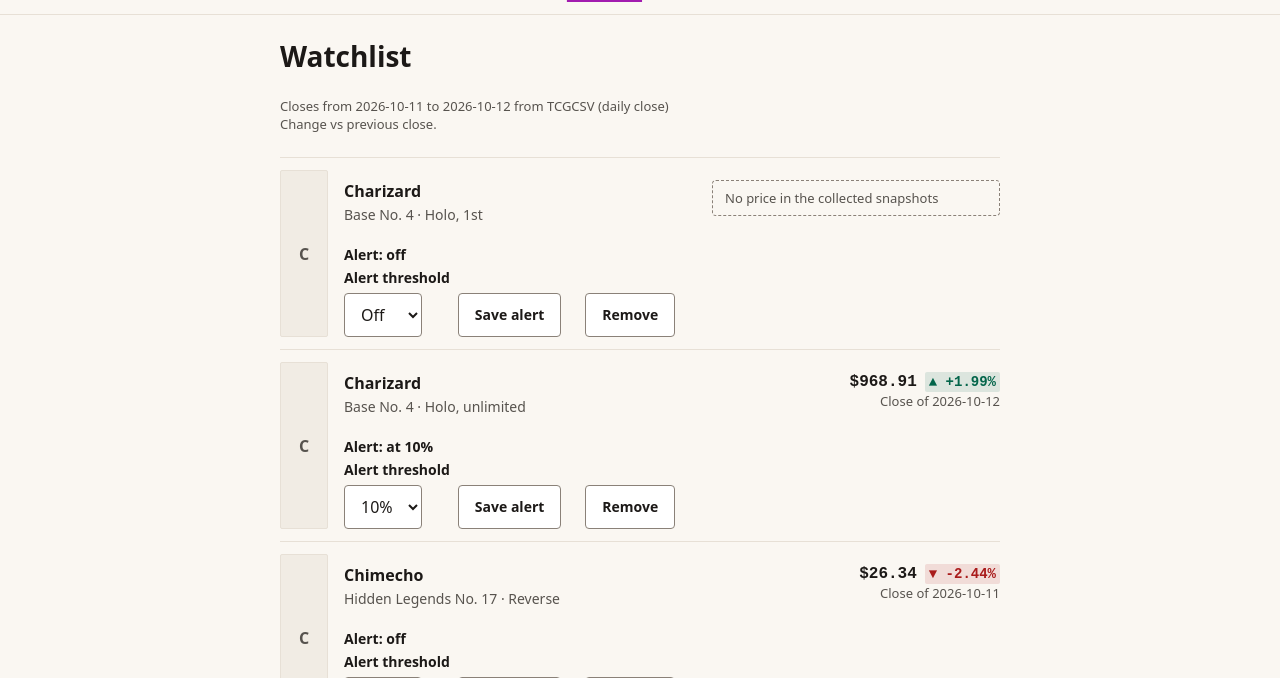
presses and neighbours › a second row removed while the owner line shows on the first keeps the line once, on the first
The width and height of the screenshot is (1280, 678).
Click the button with aria-label "Remove Charizard, holo, unlimited". click: [630, 507]
box: [585,485,675,529]
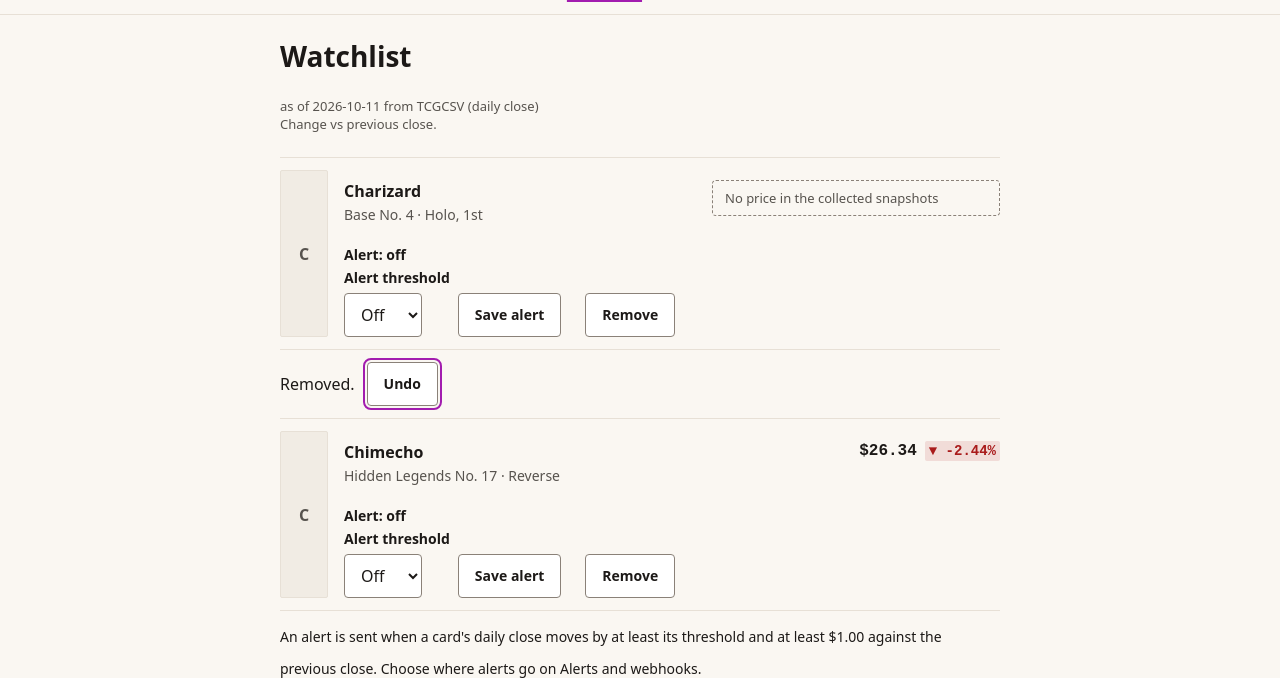
Click the button with aria-label "Undo removing Charizard". click: [402, 384]
box: [367,362,438,406]
(page scrolled)
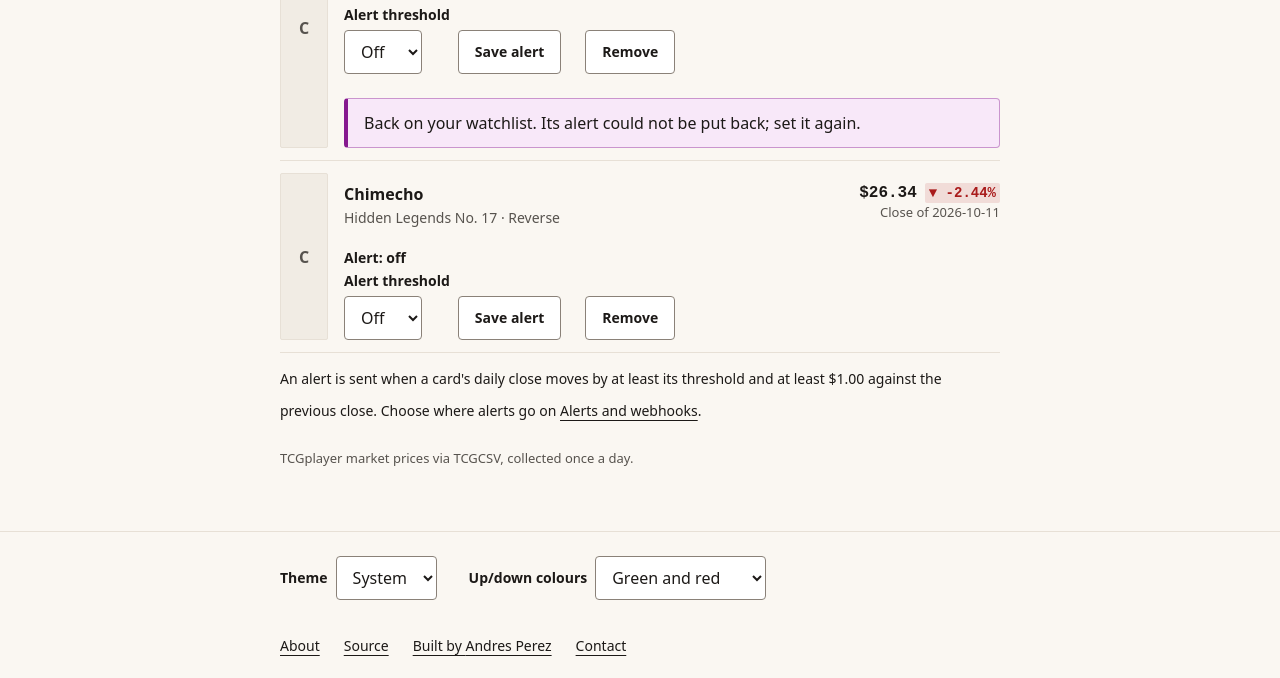
Expected: the text "Back on your watchlist. Its alert could not be put back; set it again." is shown, [344,98,1000,148]
Click the button "Remove" below "Hidden Legends No. 17 · Reverse". click: [630, 318]
box: [585,296,675,340]
(page scrolled)
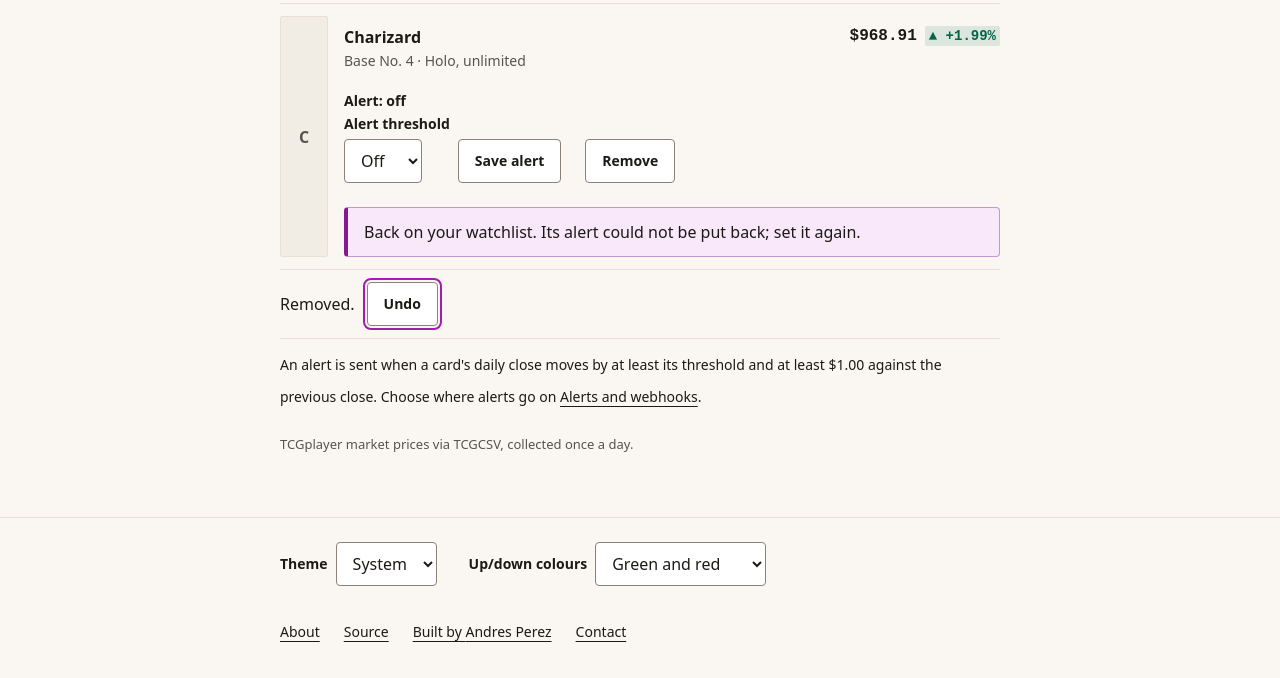
Expected: the text "Back on your watchlist. Its alert could not be put back; set it again." is shown once, [344,207,1000,257]
Expected: the 2nd list item shows "Charizard", [344,4,421,48]
Expected: the link "Chimecho" no longer shows "Chimecho"
